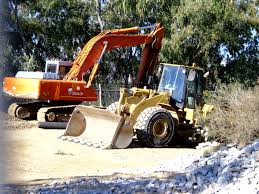bulldozer: (58, 64, 209, 150)
excavator: (1, 21, 167, 121)
